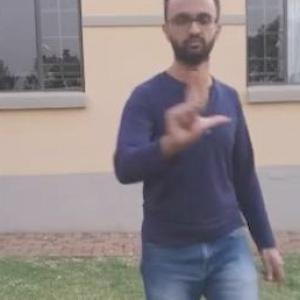land_hand: (154, 66, 234, 149)
